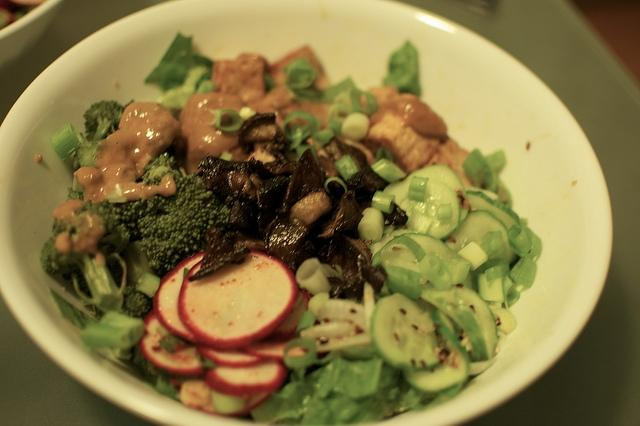broccoli: (137, 165, 231, 280), (40, 199, 132, 313), (84, 100, 125, 141), (119, 284, 152, 318)
cucumber: (402, 308, 470, 395), (370, 292, 444, 370), (430, 284, 497, 358), (401, 164, 469, 224), (445, 210, 518, 264), (400, 178, 461, 242), (398, 233, 472, 284), (380, 244, 428, 296), (466, 189, 521, 230), (420, 252, 452, 291)
green onion: (82, 310, 145, 350), (454, 290, 488, 361), (484, 149, 513, 210), (296, 258, 332, 296), (50, 122, 83, 162), (462, 149, 493, 190), (282, 57, 316, 89), (282, 110, 315, 142), (283, 338, 316, 368), (358, 207, 384, 243), (211, 388, 247, 414), (326, 102, 354, 135), (340, 112, 370, 142), (456, 242, 488, 270), (371, 158, 406, 183), (206, 109, 244, 132), (321, 78, 355, 103), (507, 258, 536, 286), (350, 88, 378, 116), (507, 224, 533, 254), (334, 154, 358, 182), (136, 272, 160, 298), (181, 68, 209, 90), (372, 190, 396, 214), (408, 176, 429, 202), (312, 128, 334, 146), (290, 123, 302, 151), (501, 276, 509, 310)
lettuce: (300, 381, 438, 426), (251, 366, 325, 426), (144, 31, 212, 92), (306, 352, 385, 398), (80, 309, 146, 348), (382, 38, 422, 99), (154, 66, 209, 108), (50, 287, 100, 330), (288, 76, 358, 104), (155, 369, 181, 402), (282, 56, 312, 84), (295, 310, 317, 337), (321, 264, 344, 280), (196, 79, 214, 94)
radish: (178, 249, 298, 350), (153, 252, 211, 346), (138, 310, 203, 375), (206, 359, 286, 398), (195, 344, 268, 368), (234, 336, 307, 359)
